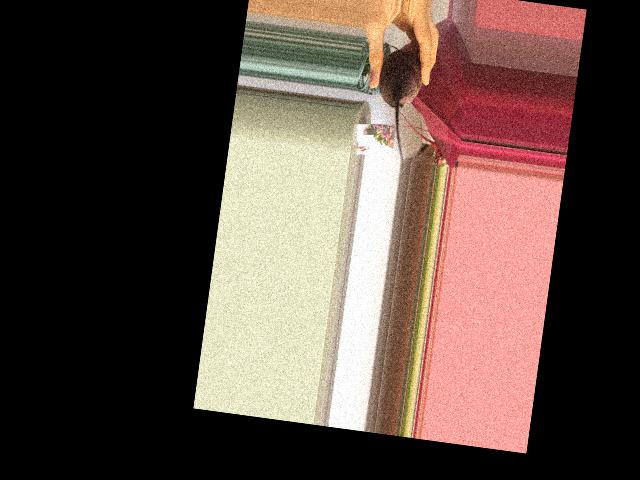beet: (368, 45, 425, 163)
